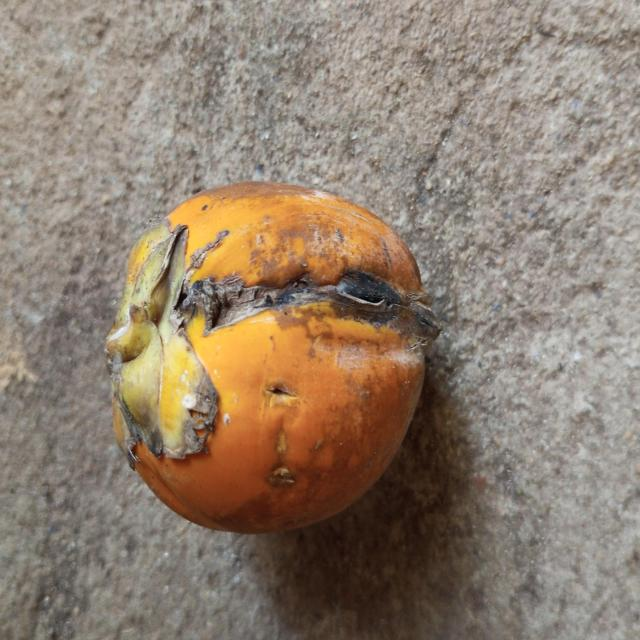damaged: (105, 183, 440, 532)
